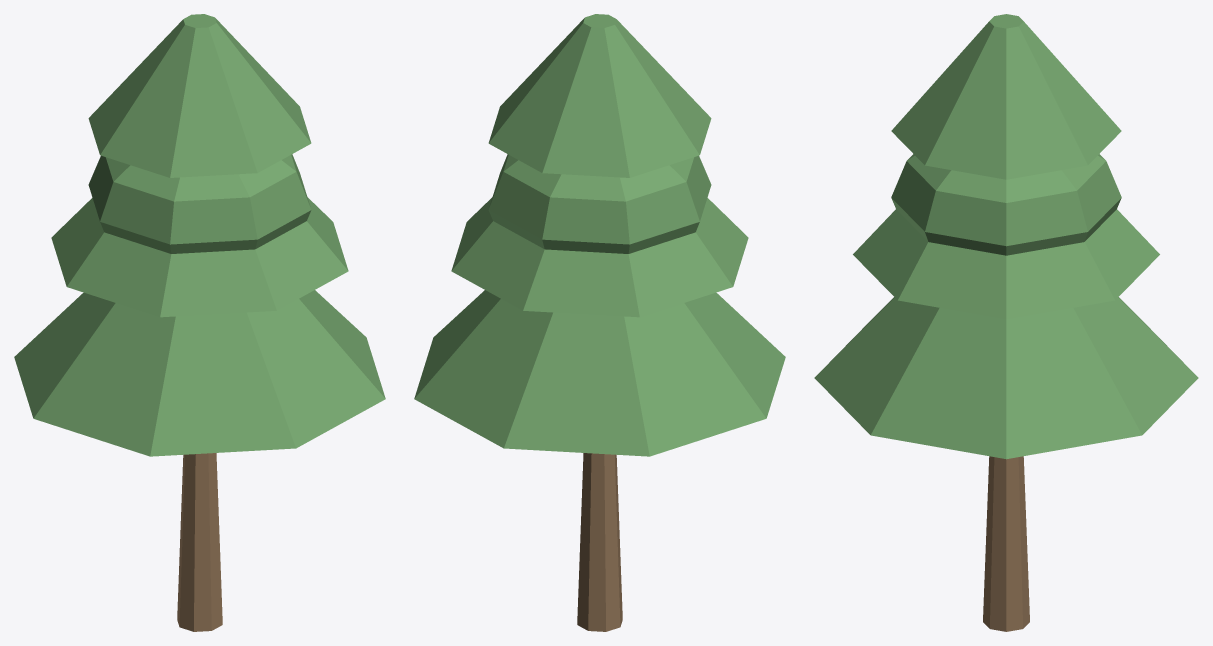
Rendered from deciduous_0.glb.
The picture shows the model from 3 angles, left to right: view 1: azimuth 30°, elevation 25°; view 2: azimuth 150°, elevation 25°; view 3: azimuth 270°, elevation 25°; orthographic projection.
Visible parts, largest first — view 1: deciduous_0_foliage_0, deciduous_0_foliage_2, deciduous_0_foliage_1, deciduous_0_top, deciduous_0_trunk; view 2: deciduous_0_foliage_0, deciduous_0_foliage_2, deciduous_0_foliage_1, deciduous_0_top, deciduous_0_trunk; view 3: deciduous_0_foliage_0, deciduous_0_foliage_2, deciduous_0_foliage_1, deciduous_0_top, deciduous_0_trunk.
Boxes of the visible parts, x1,y1,x2,y2 form: deciduous_0_foliage_0: (14,290,385,456); deciduous_0_foliage_2: (88,14,311,177); deciduous_0_foliage_1: (51,197,348,317); deciduous_0_top: (88,154,311,253); deciduous_0_trunk: (177,453,222,631); deciduous_0_foliage_0: (414,290,785,456); deciduous_0_foliage_2: (488,14,711,177); deciduous_0_foliage_1: (451,197,748,317); deciduous_0_top: (488,154,711,253); deciduous_0_trunk: (577,453,622,631); deciduous_0_foliage_0: (814,297,1198,459); deciduous_0_foliage_2: (891,14,1121,179); deciduous_0_foliage_1: (853,209,1159,319); deciduous_0_top: (891,154,1121,255); deciduous_0_trunk: (983,456,1029,631).
Size of the model in its own units: 2.54 by 4.38 by 2.54.
